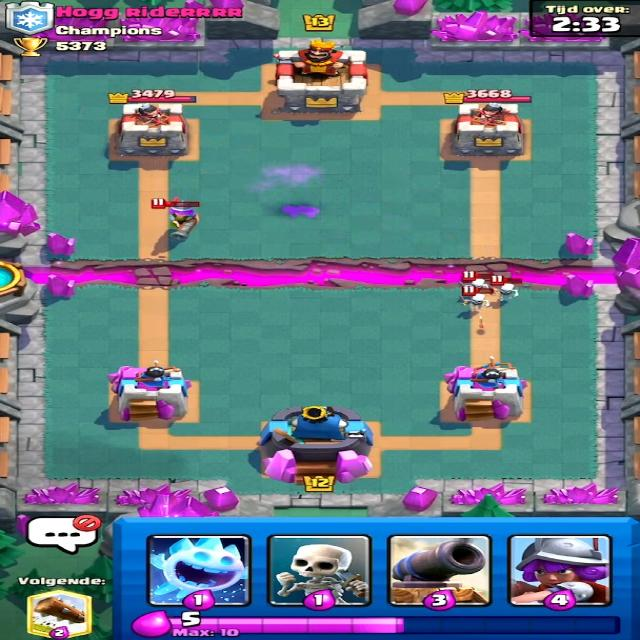Cannon_Card: (391, 536, 494, 608)
Enemy_Musketeer_Troop: (155, 196, 204, 247)
Enemy_Skeleton_Troop: (462, 294, 495, 316), (494, 280, 520, 296), (467, 274, 490, 290)
Ice_Spirit_Card: (149, 535, 238, 608)
Musketeer_Card: (510, 536, 612, 606)
Skeleton_Card: (276, 533, 370, 609)
